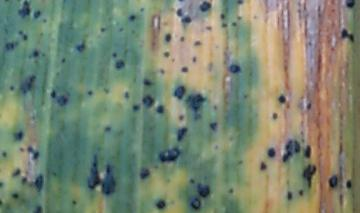tarspot: (186, 92, 206, 122), (101, 162, 117, 195), (86, 154, 101, 189), (302, 161, 315, 189), (159, 148, 181, 162), (282, 138, 293, 163), (22, 75, 36, 94), (17, 1, 31, 18), (341, 26, 355, 43), (197, 183, 210, 198), (173, 86, 186, 99), (177, 126, 187, 142), (143, 96, 155, 109), (35, 174, 44, 190), (293, 138, 302, 153), (190, 197, 200, 210), (200, 1, 211, 12), (57, 96, 69, 106), (328, 175, 337, 188), (304, 145, 312, 159), (115, 59, 125, 70), (181, 15, 192, 25), (140, 167, 150, 178), (155, 199, 165, 209), (142, 79, 153, 88), (5, 41, 15, 50), (76, 43, 86, 52), (11, 167, 21, 176), (230, 64, 240, 73), (277, 94, 287, 103), (16, 130, 23, 142), (286, 189, 293, 201), (127, 13, 136, 22), (209, 122, 217, 132), (267, 147, 275, 157), (345, 178, 352, 189), (32, 10, 41, 18), (103, 125, 112, 133), (157, 105, 165, 114), (188, 176, 196, 185), (259, 162, 267, 171), (176, 8, 183, 18), (192, 39, 202, 46), (345, 1, 355, 8), (124, 89, 130, 100), (165, 32, 171, 43), (132, 103, 140, 111), (86, 88, 93, 97), (1, 149, 8, 158), (21, 176, 28, 185), (180, 66, 189, 73), (50, 90, 57, 98), (60, 56, 67, 64), (162, 50, 169, 58), (103, 87, 110, 95), (33, 49, 39, 58), (272, 111, 278, 120), (298, 188, 304, 197), (32, 152, 39, 159), (27, 145, 34, 152), (36, 206, 43, 213), (231, 21, 238, 28), (9, 84, 15, 92), (11, 193, 19, 199), (158, 68, 166, 74), (179, 35, 185, 43), (205, 25, 213, 31), (220, 13, 226, 21), (178, 113, 184, 121), (118, 25, 124, 33), (192, 55, 197, 64), (229, 186, 234, 195), (22, 35, 29, 41), (71, 199, 77, 206), (236, 14, 242, 21), (242, 93, 248, 100), (236, 1, 244, 6), (18, 30, 24, 36), (42, 16, 47, 23), (100, 28, 106, 33), (222, 23, 228, 28), (140, 7, 145, 13), (307, 103, 311, 110), (213, 104, 217, 111), (112, 53, 117, 58), (1, 199, 4, 206), (20, 147, 24, 152), (176, 1, 186, 3), (1, 182, 4, 187)
